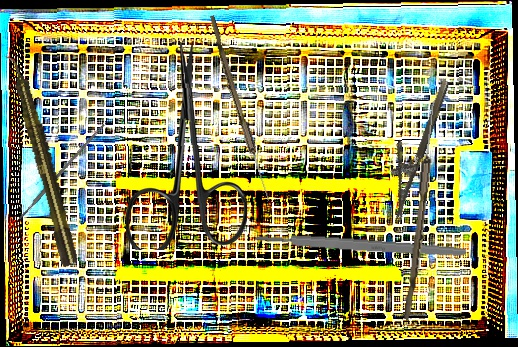Handpiece: (3, 51, 82, 269)
Iris Scissors: (122, 40, 248, 251)
Needle Holder: (372, 72, 452, 223)
Scalpel Handle: (17, 122, 106, 221), (254, 231, 467, 259)
Surgical Spoon: (205, 15, 274, 202), (404, 100, 438, 321)
